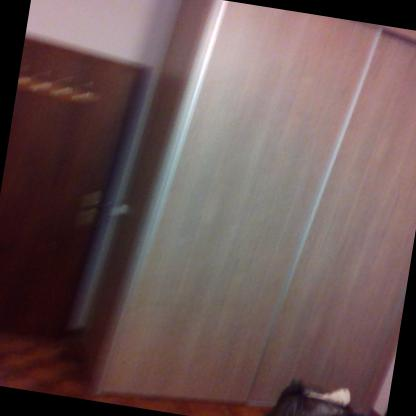closed: (0, 36, 155, 402)
